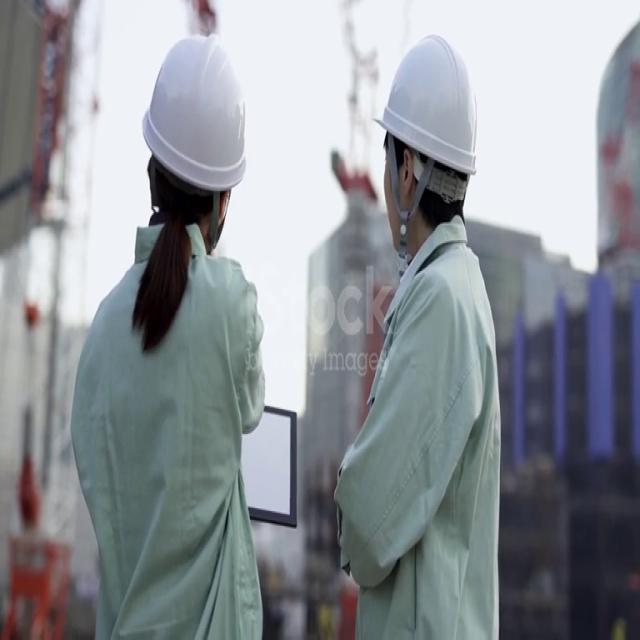capacete: (134, 28, 262, 201), (367, 25, 486, 186)
